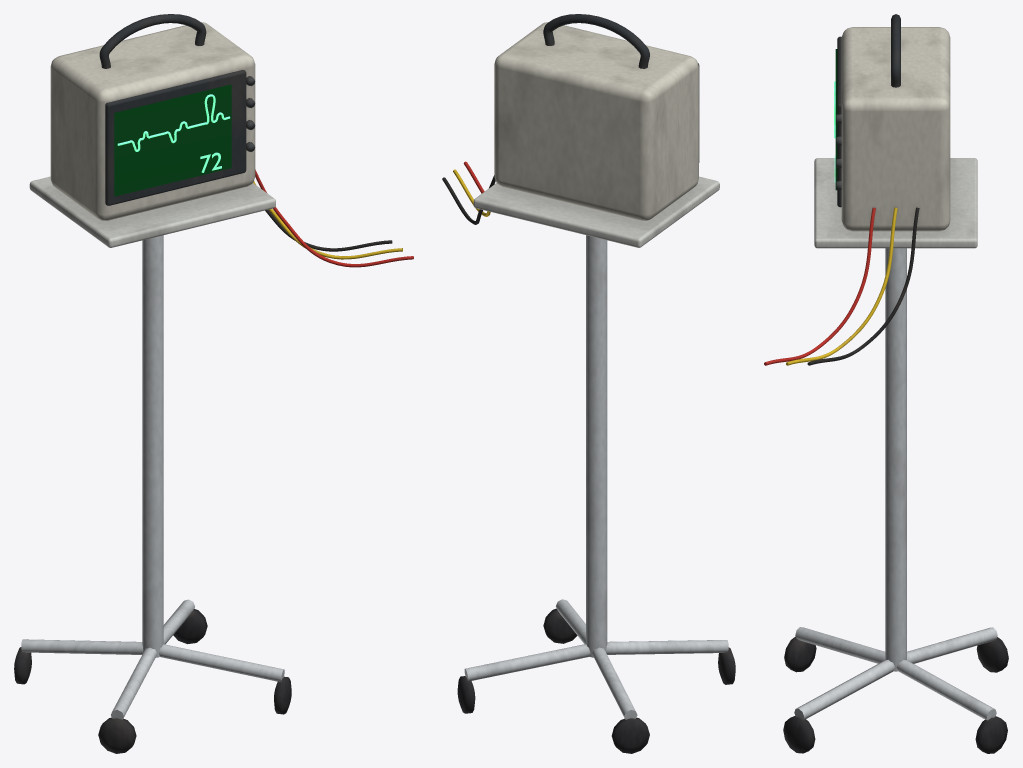
The model's file is szp_monitor.glb.
3 renders of one model, left to right at view 1: azimuth 30°, elevation 25°; view 2: azimuth 150°, elevation 25°; view 3: azimuth 270°, elevation 25°, orthographic.
Visible parts, largest first — view 1: Monitor, Ekran, SwiatloWykres; view 2: Monitor; view 3: Monitor.
Part boxes in pixels (box(x1,y1,x2,y2)): Monitor: box(14, 14, 413, 753); Ekran: box(114, 84, 231, 196); SwiatloWykres: box(117, 94, 230, 151); Monitor: box(442, 14, 735, 753); Monitor: box(764, 14, 1008, 753).
Size of the model in its own units: 0.6295 by 1.4 by 0.4497.
3 materials, 1 textured.
